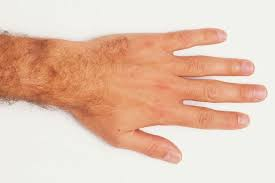hand: (55, 6, 271, 173)
